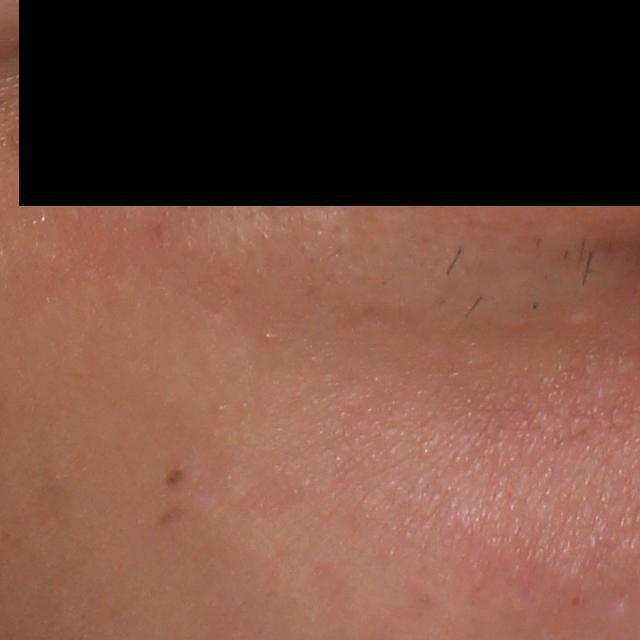nevus: (163, 462, 184, 487)
